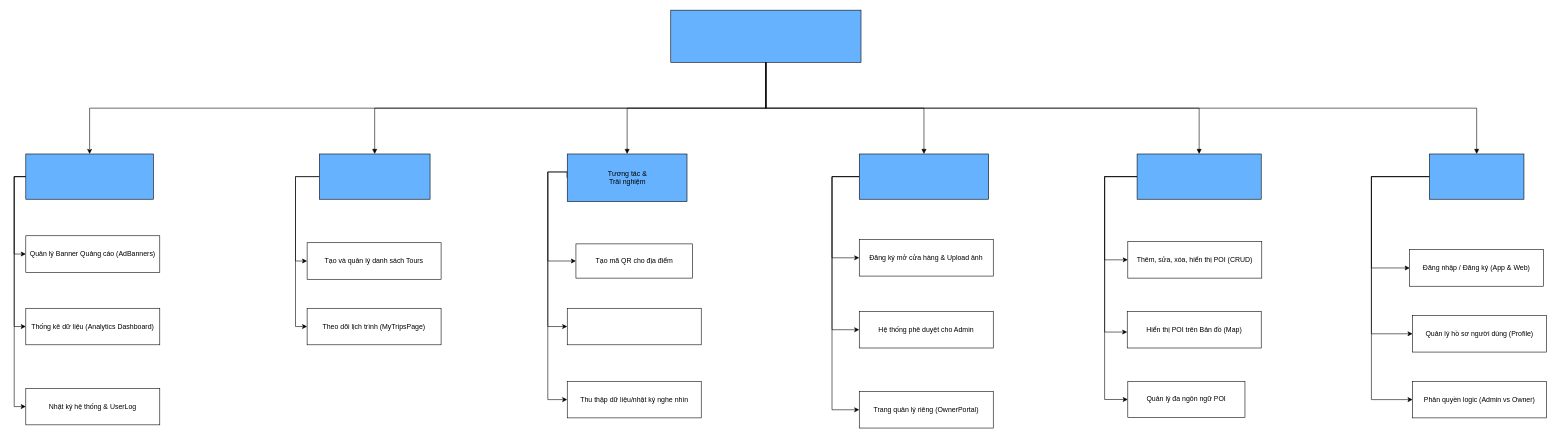
Image size: 1557x438. Some labels were removed from this diagram. Each missing label, with the centre of its shape:
"HỆ THỐNG EAT_AROUND / ZESTOUR" belongs at (765,36).
"Quét mã QR để kích hoạt sự kiện" belongs at (634,326).
"Quản lý Tuyến tham quan" belongs at (374,176).
"Quản lý Địa điểm (POI)" belongs at (1199,176).
"Quản lý Đối tác" belongs at (924,176).
"Quản trị Hệ thống & Marketing" belongs at (89,176).
"Xác thực & Phân quyền" belongs at (1476,176).
